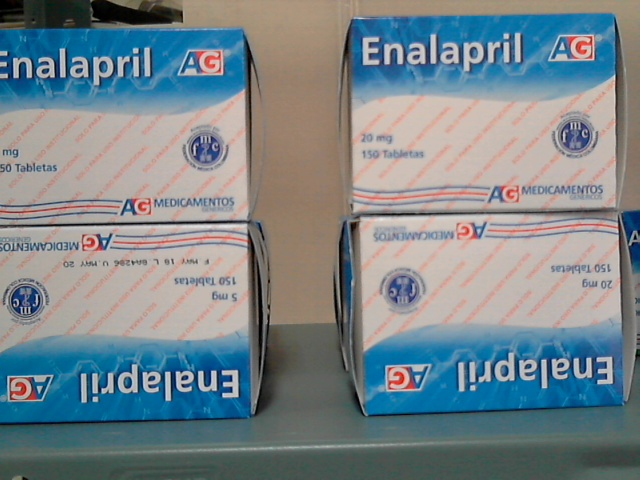AG: (363, 217, 622, 416), (355, 19, 613, 209), (1, 228, 249, 418)
